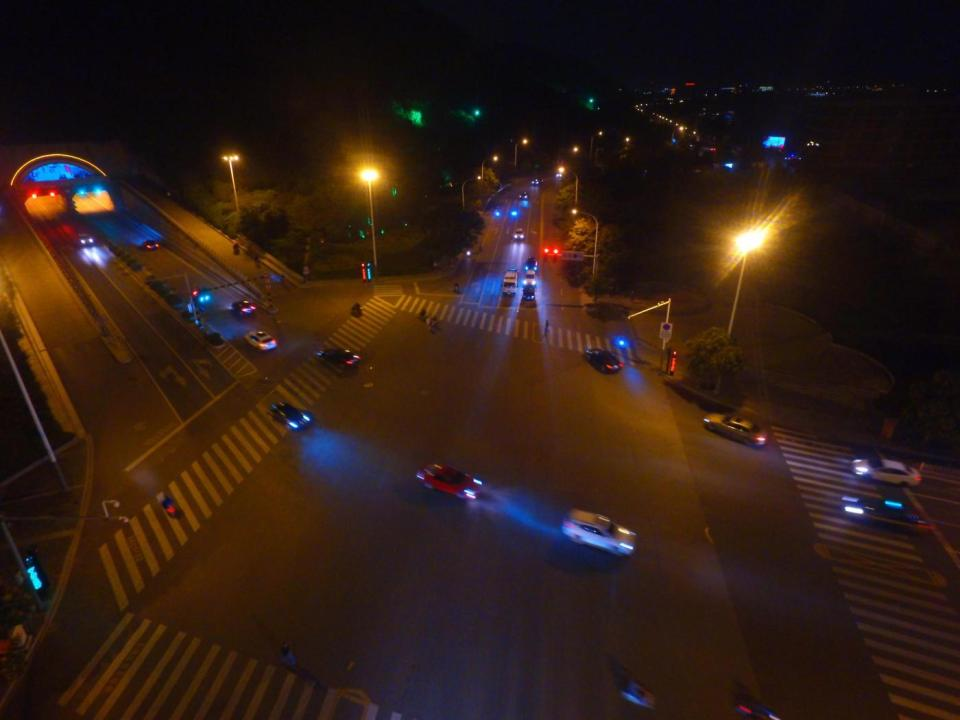car: (562, 509, 636, 557), (842, 500, 935, 536), (414, 463, 483, 502), (703, 412, 771, 448), (849, 458, 921, 487), (269, 401, 310, 431), (316, 344, 361, 371), (585, 347, 623, 374), (246, 330, 277, 351), (232, 300, 256, 319), (140, 239, 158, 251), (77, 233, 93, 246), (524, 255, 537, 270), (514, 226, 526, 241), (523, 285, 534, 301), (525, 270, 536, 286), (530, 175, 543, 186), (519, 190, 529, 199), (555, 169, 563, 180)
van: (501, 268, 518, 296)
